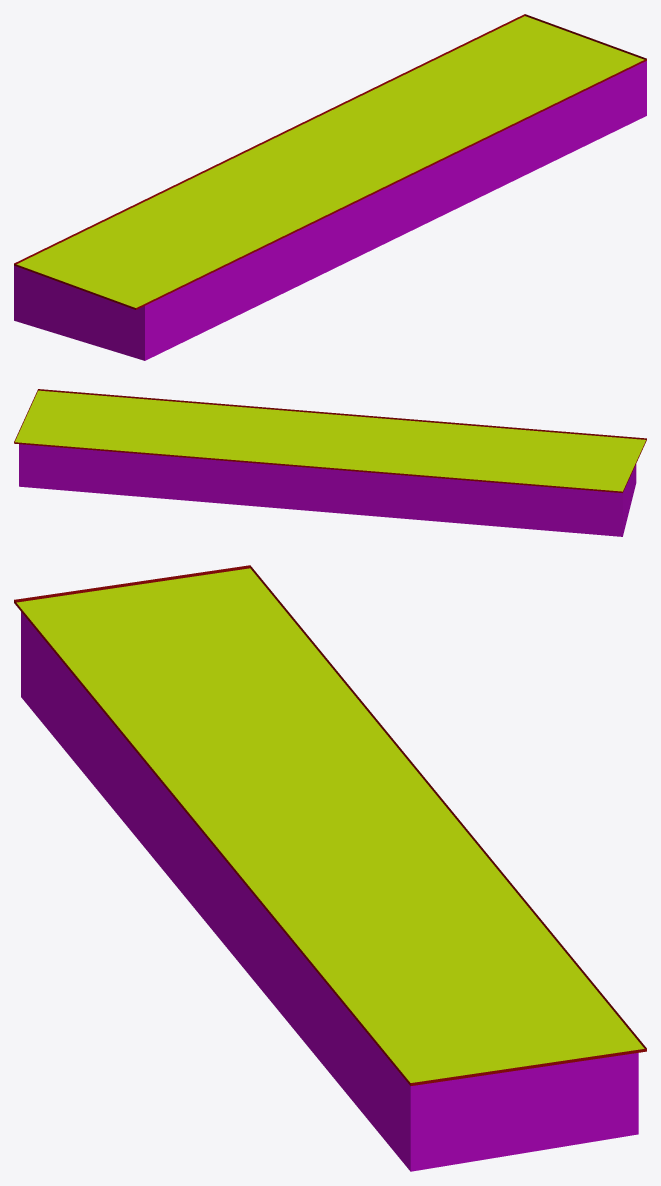
The model's file is sjs_22.glb.
3 renders of one model, top to bottom at view 1: azimuth 30°, elevation 25°; view 2: azimuth 150°, elevation 25°; view 3: azimuth 270°, elevation 25°, orthographic. The views are drawn at different scales.
Visible parts, largest first — view 1: sjs_22; view 2: sjs_22; view 3: sjs_22.
Boxes of the visible parts, x1=… form: sjs_22: x1=14, y1=14, x2=646, y2=360; sjs_22: x1=14, y1=389, x2=646, y2=536; sjs_22: x1=14, y1=565, x2=646, y2=1171.
Size of the model in its own units: 126 by 10.04 by 64.98.
